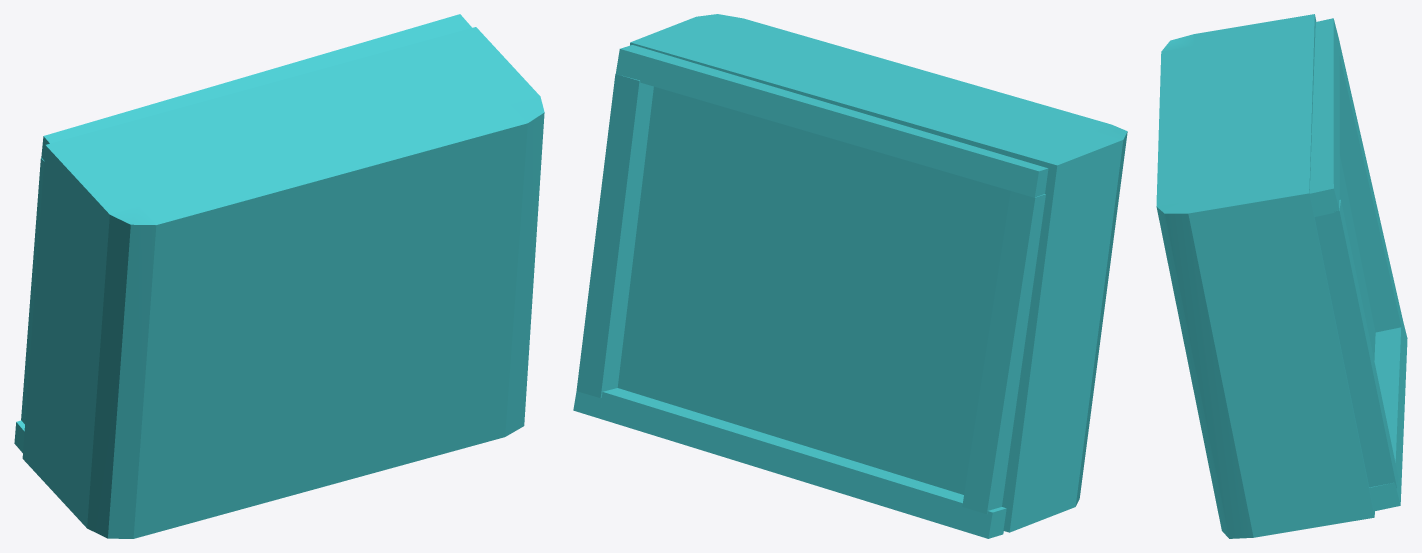
The model's file is plasma ball hologram puzzle lock hologram full screen.fbx.
3 renders of one model, left to right at view 1: azimuth 30°, elevation 25°; view 2: azimuth 150°, elevation 25°; view 3: azimuth 270°, elevation 25°, orthographic. The views are drawn at different scales.
Parts seen in each view (by area): view 1: b1ad58d4-71a1-4d92-8c5b-ec1aa37e910e; view 2: b1ad58d4-71a1-4d92-8c5b-ec1aa37e910e; view 3: b1ad58d4-71a1-4d92-8c5b-ec1aa37e910e.
Part boxes in pixels (<box>): b1ad58d4-71a1-4d92-8c5b-ec1aa37e910e: <box>14,14,544,538</box>; b1ad58d4-71a1-4d92-8c5b-ec1aa37e910e: <box>573,14,1127,538</box>; b1ad58d4-71a1-4d92-8c5b-ec1aa37e910e: <box>1156,14,1407,538</box>.
Size of the model in its own units: 85324 by 71970 by 45243.
